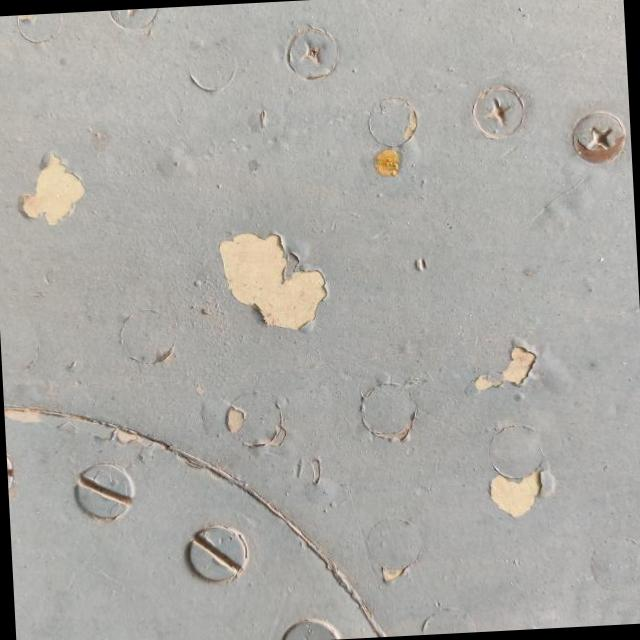Paint-off: (219, 233, 330, 332), (11, 150, 104, 232), (471, 336, 550, 406), (487, 463, 558, 522)
